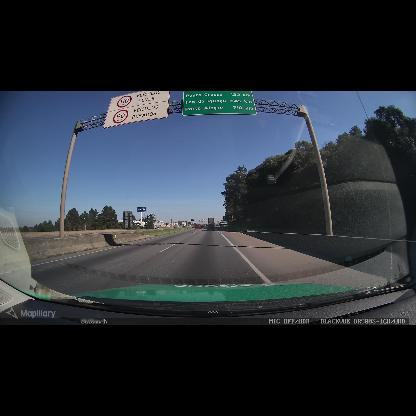R-19: (102, 91, 170, 129)
